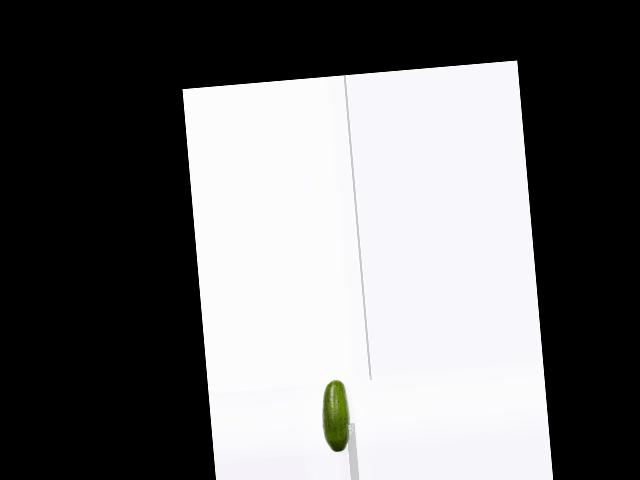cucumber: (318, 378, 353, 454)
